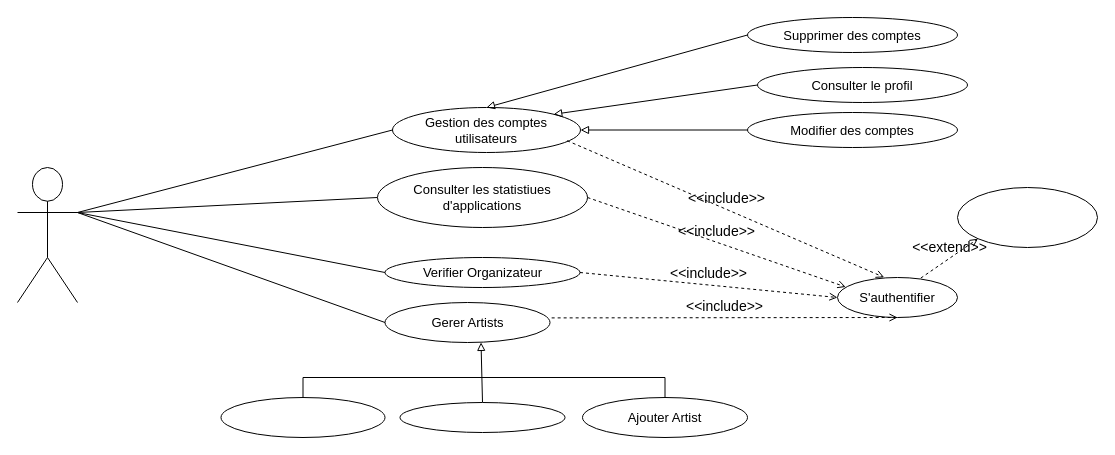
Some shapes in this 1115 by 455 pixel diagram are drawn without their labels. The box of each missing label's shape, as (x1, y1, x2, y2) in pixels:
Admin: (16, 166, 78, 302)
Deconnecter: (956, 186, 1098, 248)
Modifier Artist: (220, 396, 385, 438)
Supprimer Artist: (399, 402, 565, 432)
